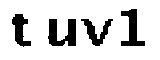1: (118, 7, 149, 51)
t: (10, 8, 33, 51)
u: (44, 16, 78, 52)
v: (81, 16, 115, 49)
